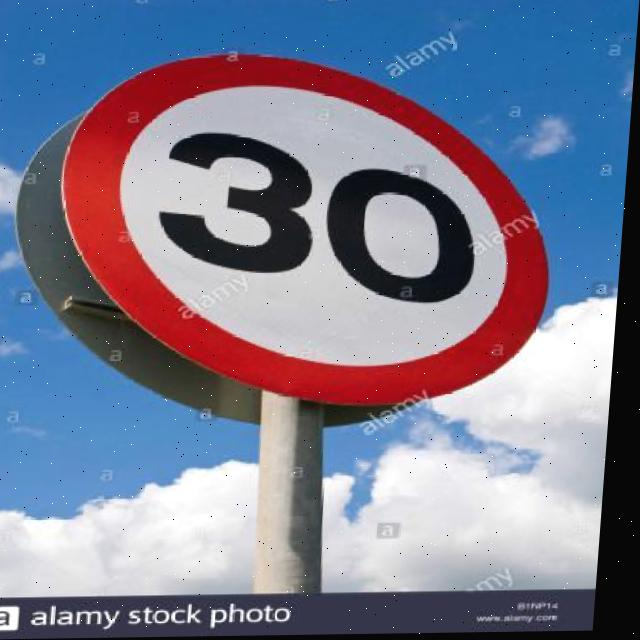Speed limit 30: (43, 45, 572, 420)
